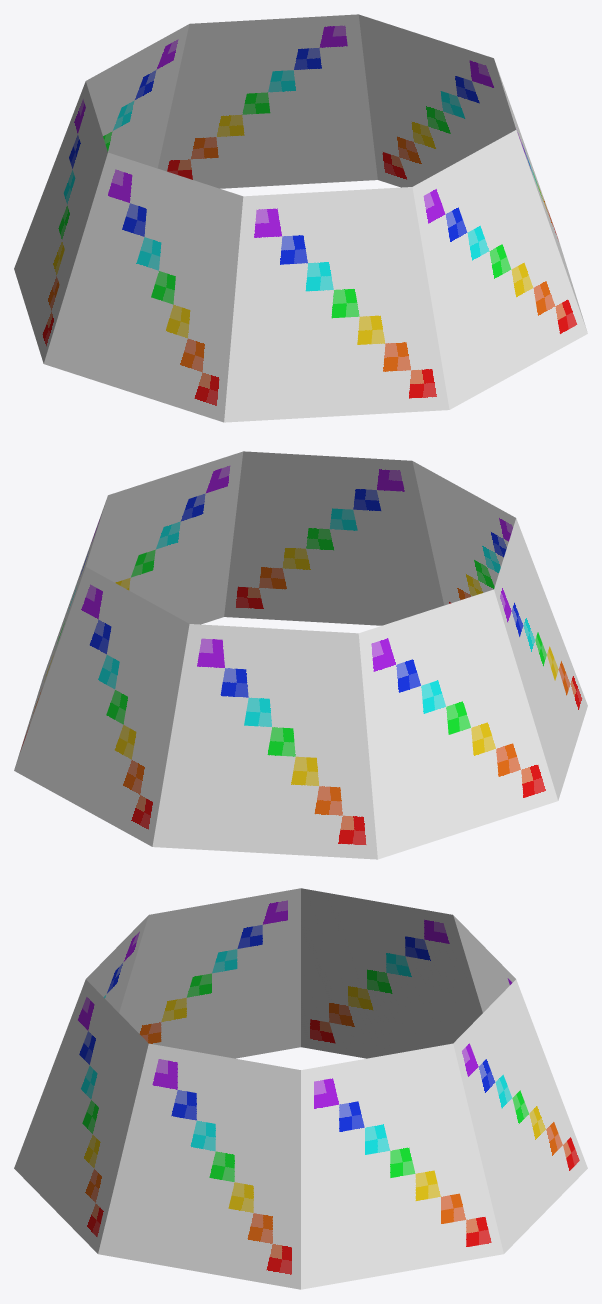
File: whistle.fbx
3 views of the same model, one above another, from view 1: azimuth 30°, elevation 25°; view 2: azimuth 150°, elevation 25°; view 3: azimuth 270°, elevation 25° (orthographic). The views are drawn at different scales.
Visible parts, largest first — view 1: Cylinder; view 2: Cylinder; view 3: Cylinder.
Boxes of the visible parts, x1,y1,x2,y2 form: Cylinder: (14, 14, 587, 422); Cylinder: (14, 451, 587, 859); Cylinder: (14, 888, 587, 1289).
Bounding box in the file's own units: 2 × 0.7277 × 2.
1 material, 1 textured.
